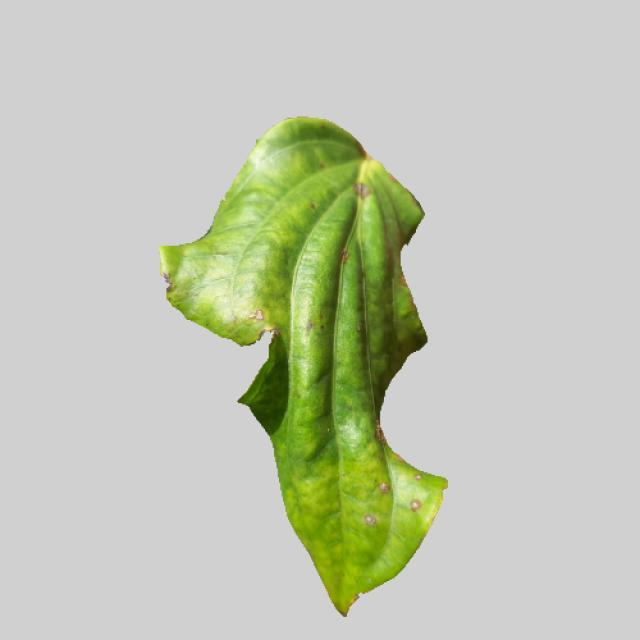yellow-mottle-virus: (120, 119, 453, 614)
